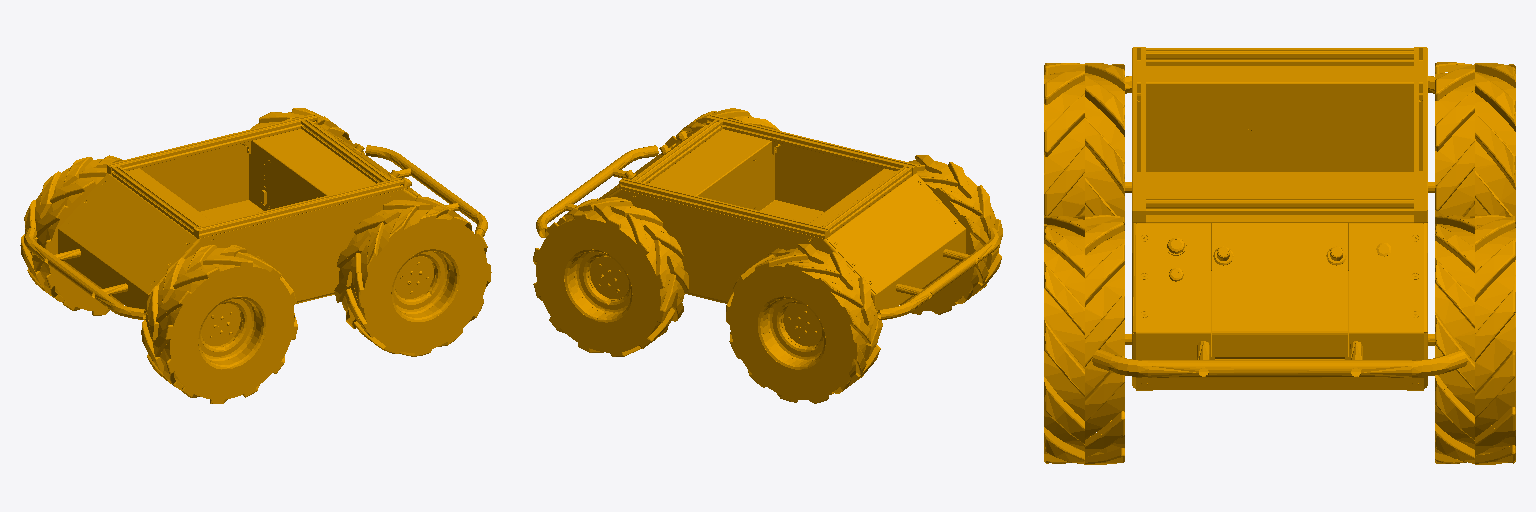
robot.urdf — environment:
<?xml version="1.0" ?>
<robot name="environment">
<link name="base_link">
  <inertial>
    <origin rpy="0 0 0" xyz="0 0 0"/>
    <mass value="1"/>
    <inertia ixx="0" ixy="0" ixz="0" iyy="0" iyz="0" izz="0"/>
  </inertial>
  <visual>
    <origin rpy="0 0 0" xyz="0 0 0"/>
    <geometry>
      <mesh filename="meshes/ugv.obj" scale="0.025 0.025 0.025" />
    </geometry>
  </visual>
  <collision>
      <origin rpy="0 0 0" xyz="0 0 0" />
      <geometry>
	 	    <box size="0.75 0.75 0.75" />
      </geometry>
  </collision>
</link>
</robot>

--- Facts derived from the render (not from the file) ---
Views: 3 orthographic renders of the robot side by side, from view 1: azimuth 30°, elevation 25°; view 2: azimuth 150°, elevation 25°; view 3: azimuth 270°, elevation 25°.
Robot: environment — 1 links, 0 joints (none); root link base_link; default pose: all joints at 0.
Links seen in each view (by area): view 1: base_link; view 2: base_link; view 3: base_link.
Boxes of the visible links, box(x1,y1,x2,y2) form: base_link: box(20, 108, 491, 403); base_link: box(533, 108, 1002, 403); base_link: box(1044, 47, 1515, 464).
Size in the robot's own frame: 2.47 by 1.67 by 0.9731 metres.
Meshes: 1 distinct files referenced, 1 mesh visuals loaded (1 OBJ).